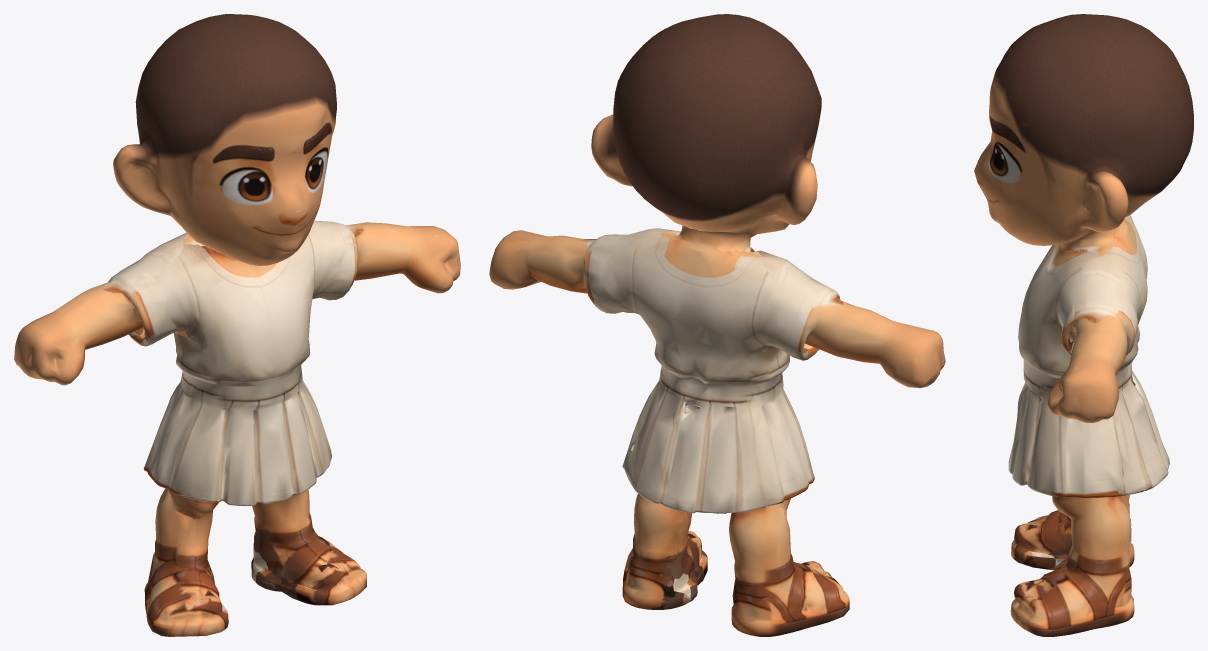
The model's file is body_plain.glb.
The picture shows the model from 3 angles, left to right: view 1: azimuth 30°, elevation 25°; view 2: azimuth 150°, elevation 25°; view 3: azimuth 270°, elevation 25°; orthographic projection. The views are drawn at different scales.
Visible parts, largest first — view 1: geometry_0; view 2: geometry_0; view 3: geometry_0.
Part boxes in pixels (box(x1,y1,x2,y2)): geometry_0: box(14, 14, 460, 636); geometry_0: box(489, 14, 945, 636); geometry_0: box(974, 14, 1193, 636).
Bounding box in the file's own units: 1.56 × 1.96 × 0.6936.
Materials: 1 (1 with a texture image).
